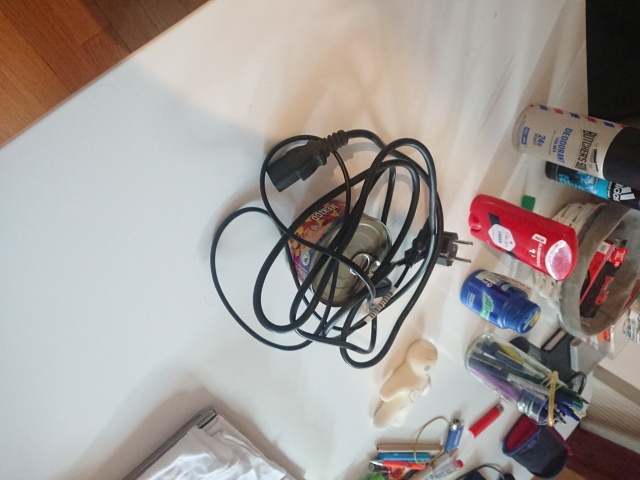Giana Tuna Salad Mexico 185g: (283, 196, 396, 310)
